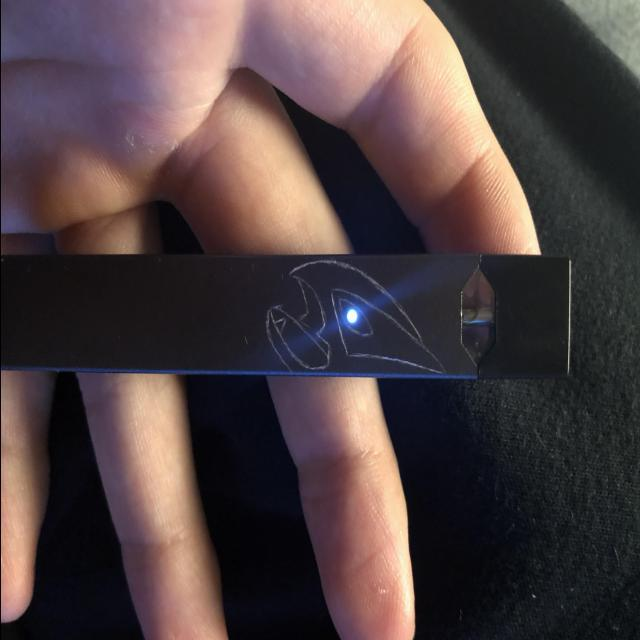Hazard: (0, 247, 572, 384)
